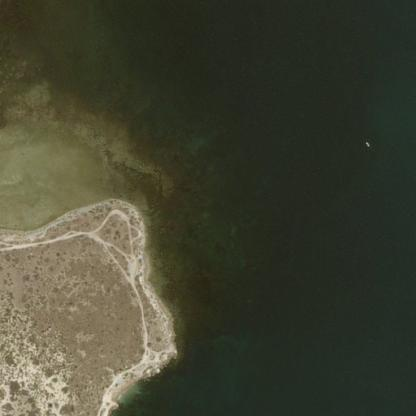ship: (358, 134, 376, 152)
